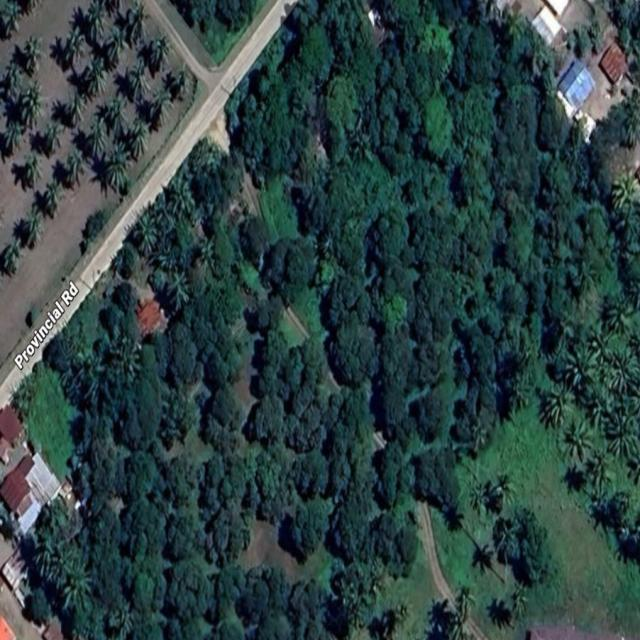Tree: (325, 156, 391, 225), (332, 474, 379, 556), (416, 262, 460, 340), (328, 317, 376, 387), (414, 447, 462, 513), (124, 374, 166, 444), (495, 142, 539, 208), (413, 23, 455, 90), (452, 89, 497, 151), (203, 332, 249, 392), (290, 500, 333, 563), (270, 237, 311, 303), (407, 208, 453, 266), (323, 2, 371, 57), (517, 511, 553, 583), (379, 441, 416, 510), (86, 416, 118, 494), (325, 277, 371, 331), (210, 504, 252, 561), (298, 21, 338, 80), (323, 75, 360, 138), (408, 159, 449, 214), (170, 562, 210, 618), (459, 323, 497, 381), (378, 326, 412, 388), (260, 84, 296, 142), (541, 156, 577, 212), (198, 414, 243, 458), (376, 205, 410, 263), (422, 93, 452, 157), (168, 319, 198, 382), (345, 39, 379, 94), (121, 496, 164, 539), (239, 95, 267, 161), (457, 158, 490, 213), (389, 0, 431, 43), (468, 26, 499, 84), (251, 448, 286, 499), (349, 428, 382, 482), (328, 424, 352, 498), (413, 388, 448, 438), (283, 56, 319, 104), (62, 363, 100, 408), (552, 199, 585, 250), (504, 214, 532, 274), (122, 450, 158, 496), (168, 452, 200, 503), (86, 506, 116, 560), (92, 551, 124, 601), (252, 394, 286, 441), (168, 517, 205, 560), (457, 262, 487, 315), (294, 451, 329, 496), (564, 344, 598, 390), (581, 444, 612, 494), (124, 554, 168, 589), (282, 414, 320, 454), (340, 393, 376, 435), (209, 218, 236, 273), (377, 380, 406, 430), (258, 561, 290, 606), (292, 578, 326, 620), (393, 88, 424, 134), (504, 316, 536, 360), (251, 294, 288, 332), (244, 214, 272, 264), (301, 333, 325, 391), (605, 348, 638, 390), (448, 200, 490, 233), (419, 341, 452, 383), (609, 413, 639, 459), (102, 144, 132, 190), (166, 388, 196, 433), (124, 112, 151, 162), (63, 564, 93, 608), (513, 93, 540, 140), (260, 328, 290, 370), (216, 565, 250, 602), (305, 186, 332, 232), (132, 212, 160, 256), (168, 172, 196, 216), (380, 296, 410, 337), (242, 574, 271, 616), (20, 207, 48, 250), (504, 373, 534, 413), (112, 339, 142, 379), (547, 384, 576, 425), (194, 169, 223, 210), (50, 544, 77, 586), (217, 152, 242, 197), (258, 608, 293, 640), (210, 387, 237, 428), (604, 293, 631, 334), (125, 60, 149, 105), (586, 207, 611, 250), (213, 609, 247, 640), (613, 170, 638, 212), (220, 0, 256, 29), (564, 414, 590, 454), (573, 260, 599, 300), (82, 58, 108, 98), (56, 328, 84, 365), (132, 571, 157, 612), (377, 144, 408, 176), (282, 343, 304, 388), (464, 219, 490, 257), (167, 270, 191, 311), (394, 526, 419, 565), (445, 48, 472, 84), (148, 88, 171, 130), (590, 394, 616, 431), (287, 120, 313, 157), (452, 583, 476, 623), (170, 64, 194, 104), (102, 26, 126, 66), (41, 182, 66, 220), (126, 3, 149, 44), (64, 148, 87, 189), (171, 0, 212, 23), (364, 101, 384, 148), (272, 435, 296, 474), (496, 184, 522, 220), (145, 36, 169, 75), (104, 94, 128, 132), (492, 472, 519, 505), (20, 85, 44, 122), (496, 99, 520, 135), (226, 459, 246, 502), (200, 452, 223, 489), (194, 286, 218, 321), (545, 284, 569, 319), (40, 116, 64, 151), (526, 274, 548, 312), (496, 522, 519, 558), (488, 265, 513, 298), (63, 27, 83, 68), (110, 604, 134, 638), (452, 19, 476, 53), (313, 258, 335, 295), (68, 91, 90, 128), (332, 579, 357, 611), (507, 80, 539, 105), (508, 585, 529, 623), (392, 52, 413, 90), (87, 121, 109, 157), (258, 60, 282, 93), (136, 616, 168, 640), (25, 36, 45, 74), (5, 68, 25, 106), (197, 235, 218, 271), (392, 263, 413, 299), (178, 615, 208, 640), (436, 0, 460, 31), (4, 0, 24, 37), (504, 8, 527, 40), (88, 0, 107, 38), (138, 341, 158, 377), (293, 387, 316, 418), (125, 527, 148, 557), (266, 140, 286, 173), (3, 124, 26, 152), (506, 282, 526, 314), (301, 402, 322, 432), (498, 60, 519, 90), (24, 154, 44, 185), (256, 367, 278, 395), (4, 246, 25, 275), (377, 88, 396, 120), (150, 574, 168, 606), (100, 305, 118, 336), (468, 419, 486, 450), (509, 122, 526, 152), (378, 514, 396, 542), (549, 262, 569, 287), (378, 278, 397, 304), (394, 601, 413, 627), (382, 115, 399, 144), (118, 246, 136, 273), (376, 59, 392, 89), (456, 417, 474, 442), (481, 315, 500, 338), (149, 266, 167, 290), (396, 130, 414, 153), (118, 285, 134, 307), (218, 474, 232, 498), (554, 239, 570, 260)
